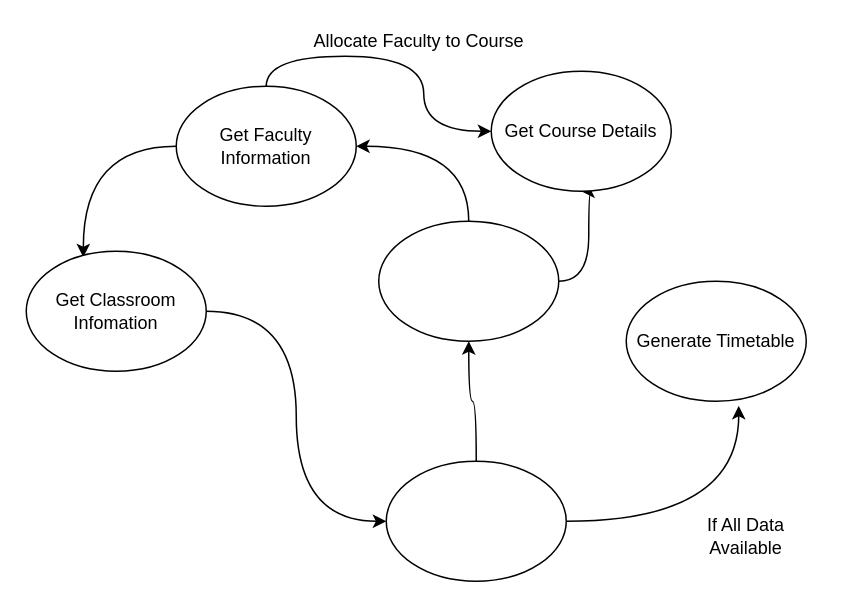
Image size: 848x608. Some labels were removed from this diagram. Here are the shapes that lost their labels. From the top down, the centre of each, then its label:
At pixel 468 280: "Get Department Information".
At pixel 475 520: "Idle".
